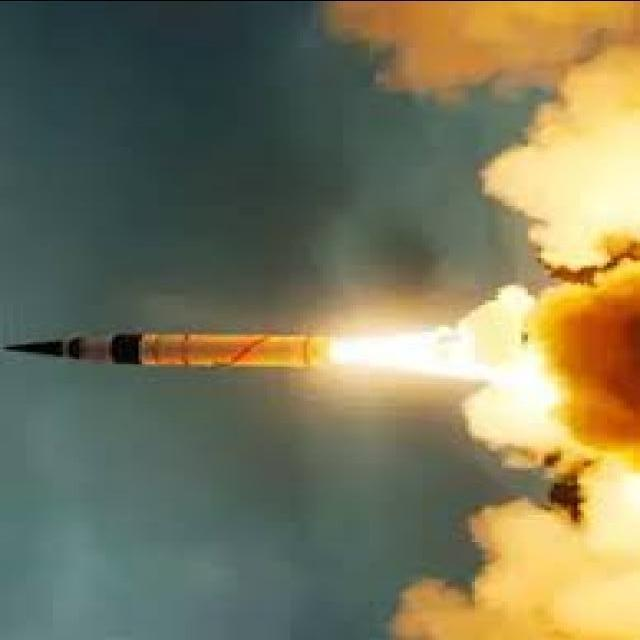missile: (1, 330, 344, 373)
